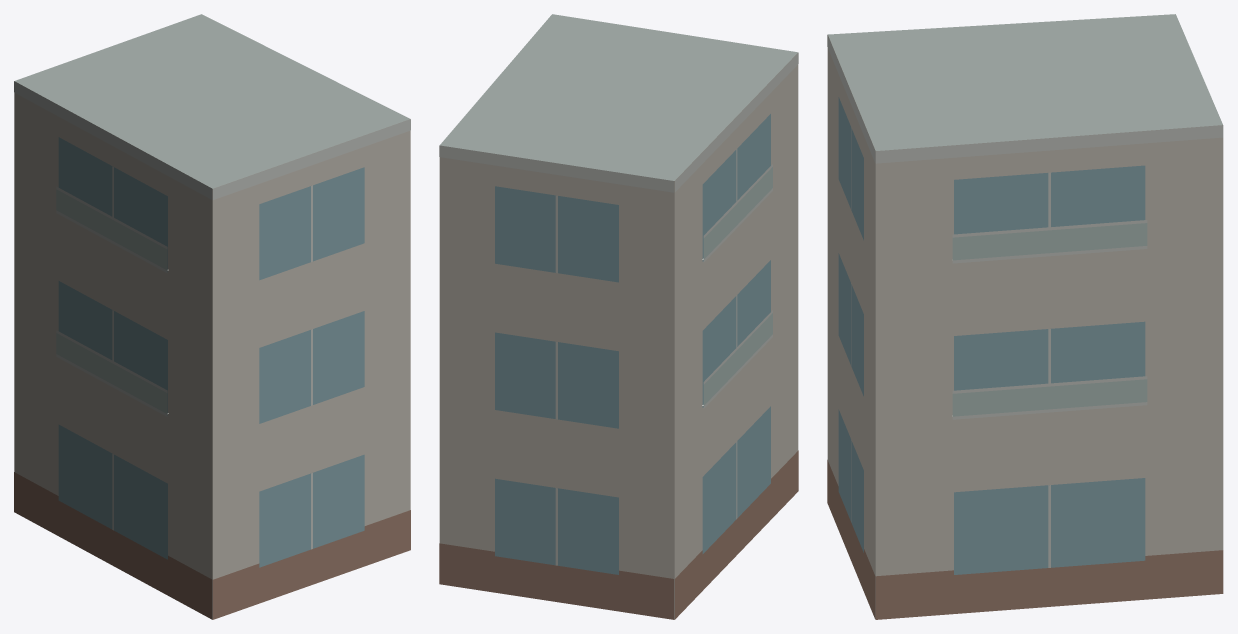
The model's file is survey-upis-32978902.glb.
The picture shows the model from 3 angles, left to right: view 1: azimuth 30°, elevation 25°; view 2: azimuth 150°, elevation 25°; view 3: azimuth 270°, elevation 25°; orthographic projection. The views are drawn at different scales.
Parts seen in each view (by area): view 1: survey-upis-32978902.tmp; view 2: survey-upis-32978902.tmp; view 3: survey-upis-32978902.tmp.
Part boxes in pixels (bbox=[...]): survey-upis-32978902.tmp: bbox=[14, 14, 410, 619]; survey-upis-32978902.tmp: bbox=[439, 14, 798, 619]; survey-upis-32978902.tmp: bbox=[827, 14, 1223, 619].
Bounding box in the file's own units: 5.75 × 9.15 × 7.01.
